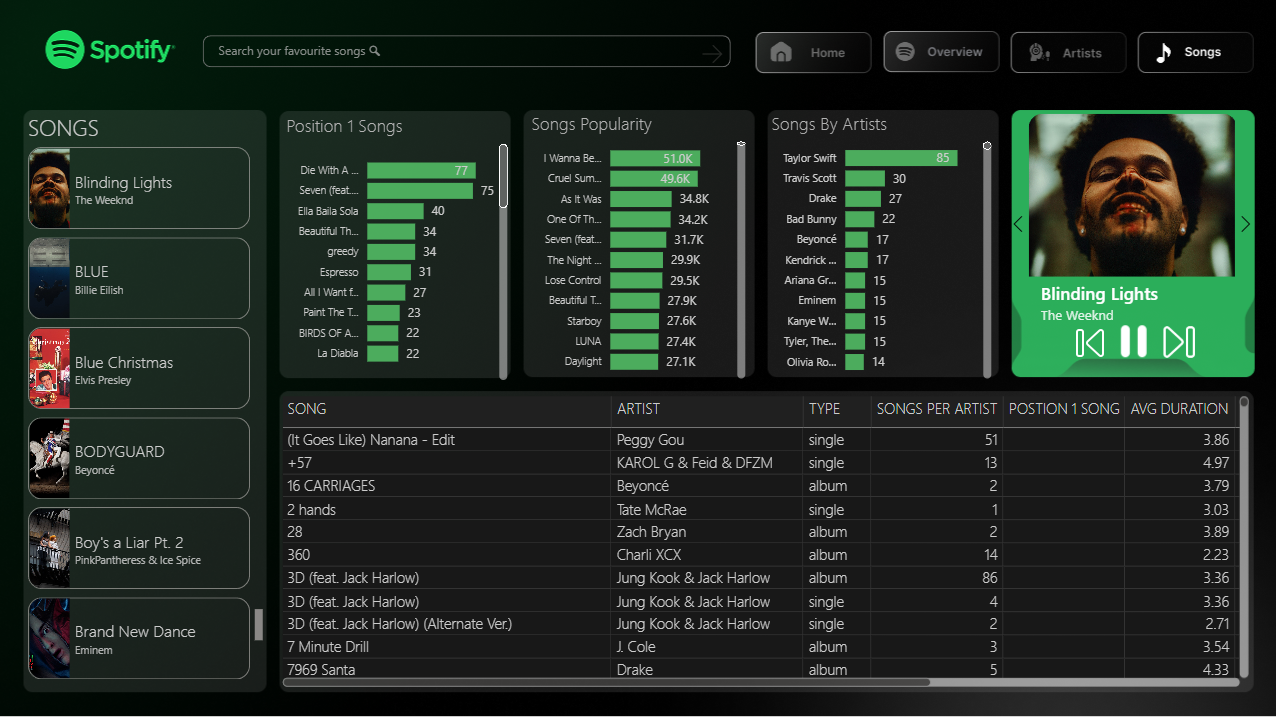

Layout of this report page (visuals, bound fields, positions):
{"tool":"powerbi","page":{"name":"Songs","canvas":[1280,720],"ordinal":3},"visuals":[{"type":"advancedSlicerVisual","title":"Songs & Artists","fields":{"Values":["Top-50-world.song"]},"box":[1008.9,114.3,248.5,223.2],"z":0},{"type":"image","box":[1155,325,51,36],"z":1000},{"type":"image","box":[1075,320,32,48],"z":2000},{"type":"image","box":[1119,326,32,32],"z":3000},{"type":"clusteredBarChart","title":"Songs By Artists","fields":{"Y":["_Measures.Distinct Songs"],"Category":["Top-50-world.artist"]},"box":[768,112,230,272],"z":4000},{"type":"clusteredBarChart","title":"Songs Popularity","fields":{"Y":["Sum(Top-50-world.popularity)"],"Category":["Top-50-world.song"]},"box":[528,112,224,272],"z":5000},{"type":"clusteredBarChart","title":"Position 1 Songs","fields":{"Y":["_Measures.Position 1 Songs"],"Category":["Top-50-world.song"]},"box":[288,112,224,272],"z":6000},{"type":"advancedSlicerVisual","title":"SONGS","fields":{"Values":["Top-50-world.song"]},"box":[24,112,243,576],"z":7000},{"type":"shape","box":[204,36,528,32],"z":8000},{"type":"textSlicer","fields":{"Values":["Top-50-world.artist"]},"box":[208,36,523,30],"z":9000},{"type":"tableEx","fields":{"Values":["Top-50-world.song","Top-50-world.artist","Top-50-world.album_type","_Measures.Songs per Artist","_Measures.Position 1 Songs","_Measures.Avg Duration Minutes","_Measures.Avg Popularity","_Measures.Avg Position","_Measures.Avg Tracks per Album","Top-50-world.is_explicit"]},"box":[278,393,977,300],"z":10000},{"type":"actionButton","box":[1013,33,111,39],"z":11000},{"type":"actionButton","box":[1140,33,113,39],"z":12000},{"type":"actionButton","box":[758,32,114,42],"z":13000},{"type":"actionButton","box":[885,31,117,42],"z":14000}]}

Visuals, with their boxes in screenshot pixels (x1, y1, x2, y2), scaled from the page's 1280x720 canvas onto the 1276x719 screenshot:
"Songs & Artists" advancedSlicerVisual: {"x1": 1006, "y1": 114, "x2": 1253, "y2": 337}
image: {"x1": 1151, "y1": 325, "x2": 1202, "y2": 360}
image: {"x1": 1072, "y1": 320, "x2": 1104, "y2": 367}
image: {"x1": 1116, "y1": 326, "x2": 1147, "y2": 358}
"Songs By Artists" clusteredBarChart: {"x1": 766, "y1": 112, "x2": 995, "y2": 383}
"Songs Popularity" clusteredBarChart: {"x1": 526, "y1": 112, "x2": 750, "y2": 383}
"Position 1 Songs" clusteredBarChart: {"x1": 287, "y1": 112, "x2": 510, "y2": 383}
"SONGS" advancedSlicerVisual: {"x1": 24, "y1": 112, "x2": 266, "y2": 687}
shape: {"x1": 203, "y1": 36, "x2": 730, "y2": 68}
textSlicer - Top-50-world.artist: {"x1": 207, "y1": 36, "x2": 729, "y2": 66}
tableEx - Top-50-world.song x Top-50-world.artist: {"x1": 277, "y1": 392, "x2": 1251, "y2": 692}
actionButton: {"x1": 1010, "y1": 33, "x2": 1120, "y2": 72}
actionButton: {"x1": 1136, "y1": 33, "x2": 1249, "y2": 72}
actionButton: {"x1": 756, "y1": 32, "x2": 869, "y2": 74}
actionButton: {"x1": 882, "y1": 31, "x2": 999, "y2": 73}
